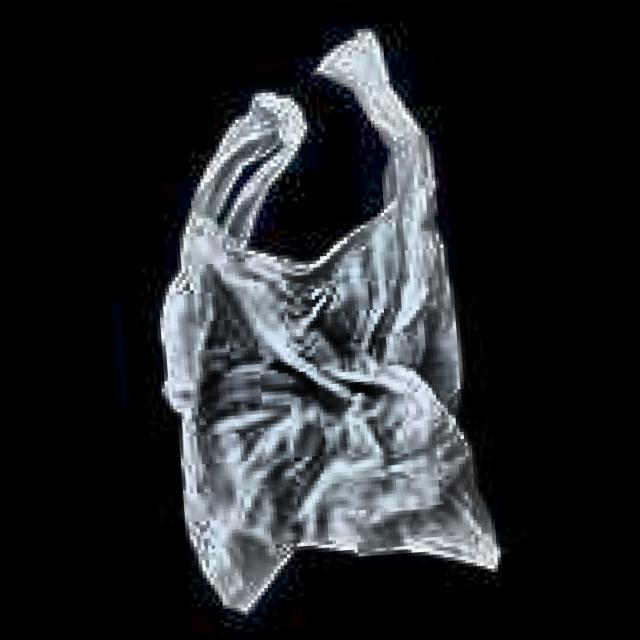plastic bag: (162, 30, 499, 610)
